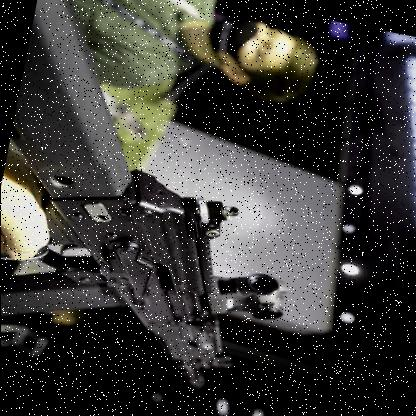rifle: (0, 0, 361, 416)
